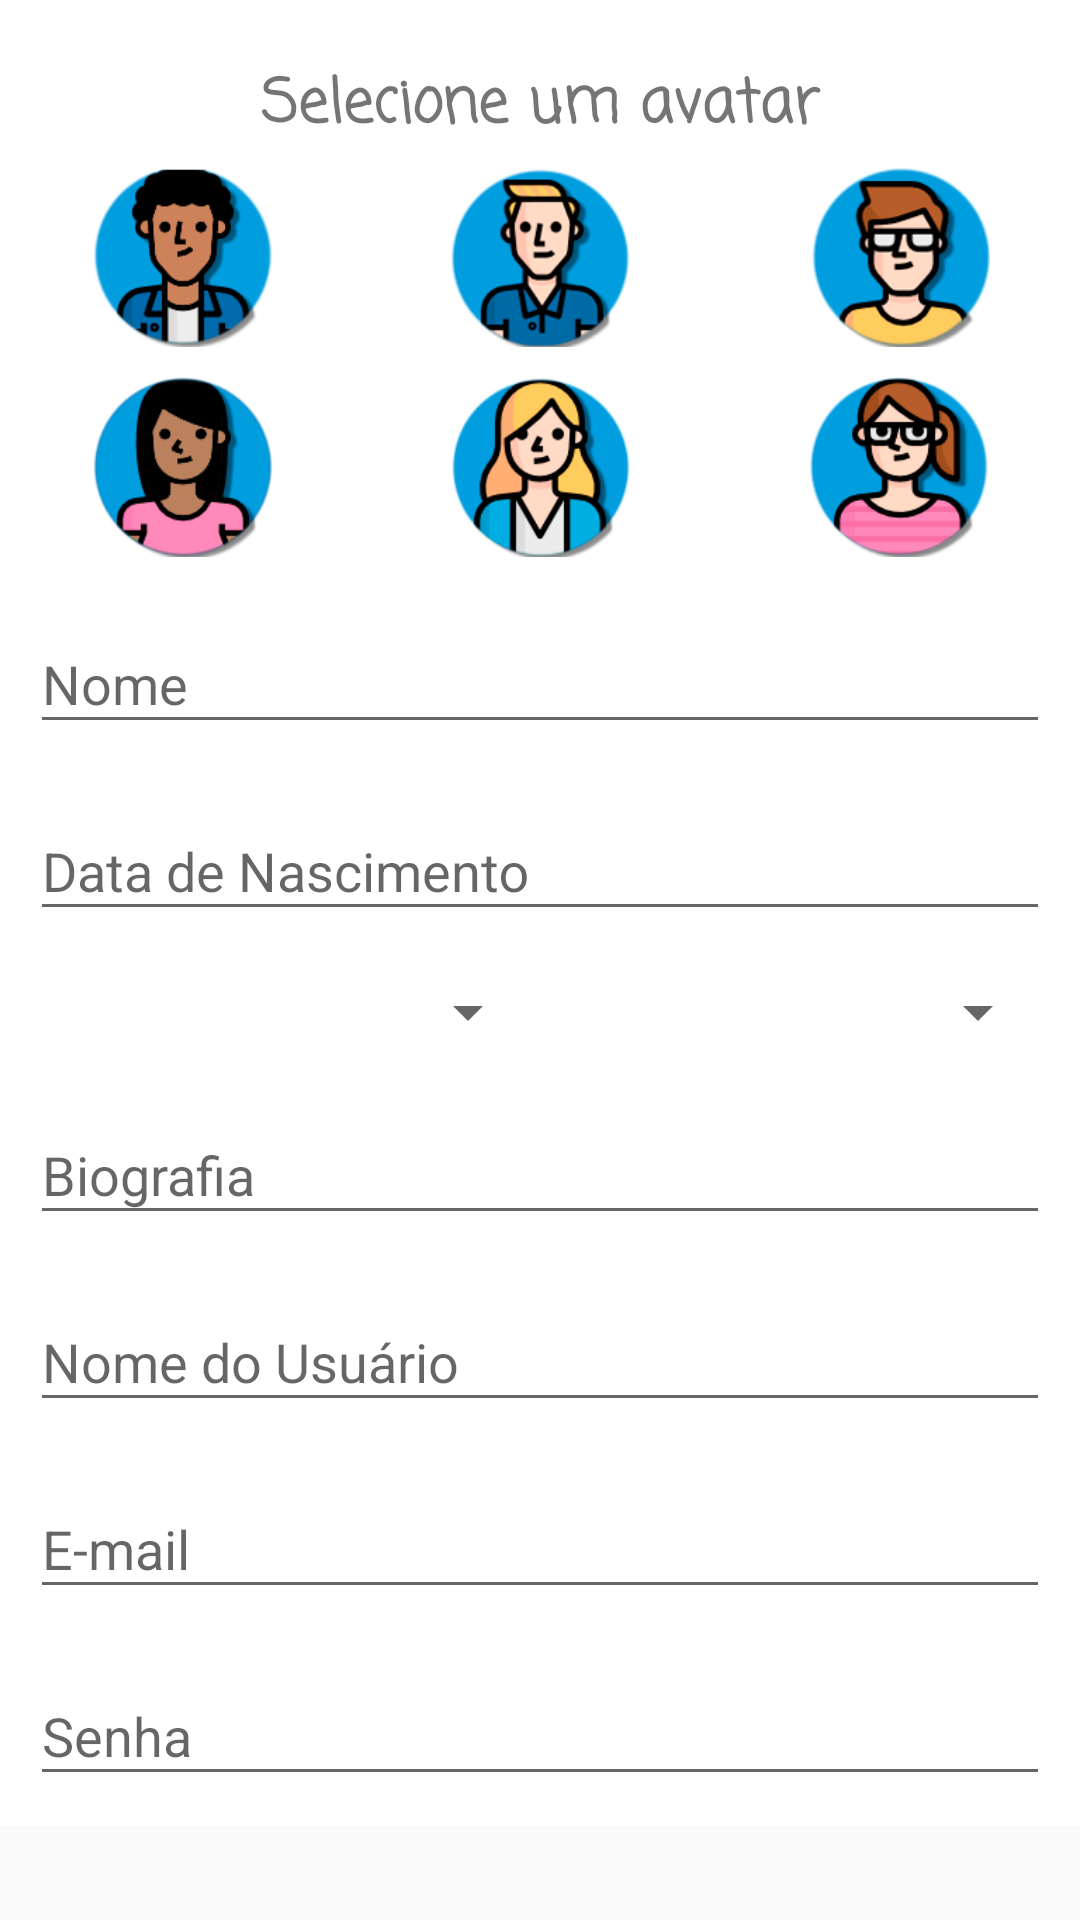

Point at icon controls on the screen. Image size 1080×1920, points as (x=x, y=y).
man: (x=901, y=257), (x=183, y=258), (x=540, y=258)
woman: (x=183, y=467), (x=541, y=467), (x=899, y=467)
